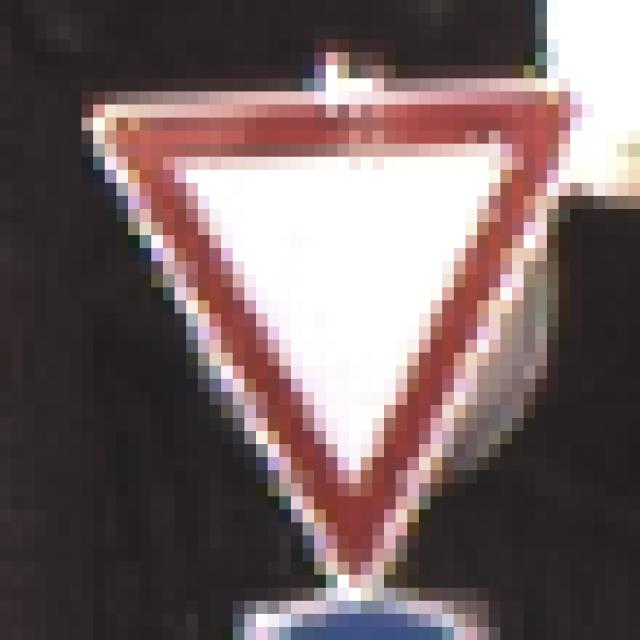Give Way: (71, 66, 571, 576)
